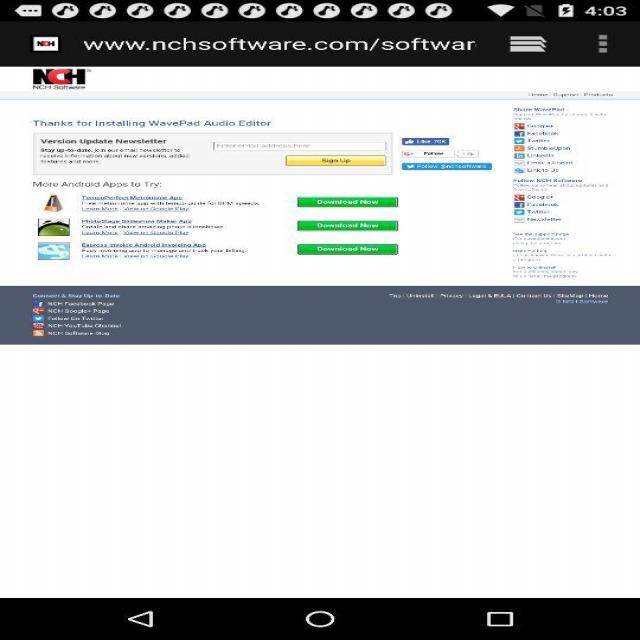image: (15, 54, 640, 348)
